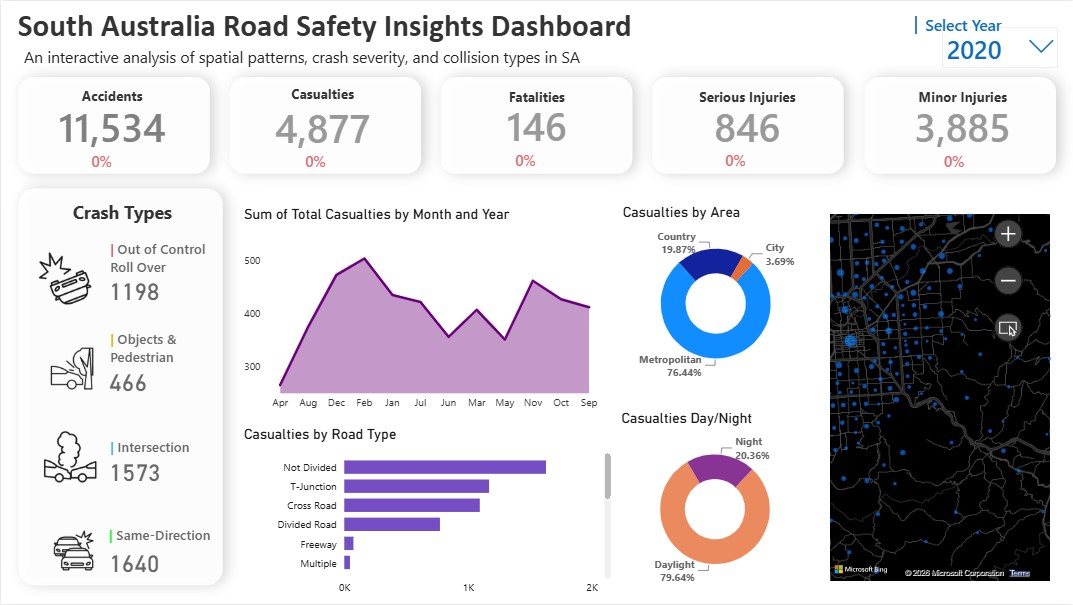

This screenshot's page, from the dashboard's own definition file:
{"tool":"powerbi","page":{"name":"Page 1","canvas":[1280,720],"ordinal":0},"visuals":[{"type":"group","id":"g1","title":"Group 2","box":[286.1,100.1,195,119.4],"z":0,"group":"g3"},{"type":"group","id":"g2","title":"Group 3","box":[286.1,100.1,195,119.4],"z":0,"group":"g1"},{"type":"cardVisual","title":"Casualties","fields":{"Data":["bb05bb0d-f9a4-4638-8992-81d5fb9.CY Casualties"]},"box":[286.1,100.1,195,87.5],"z":0,"group":"g2"},{"type":"cardVisual","title":"Accidents","fields":{"Data":["bb05bb0d-f9a4-4638-8992-81d5fb9.Total CY Accidents"]},"box":[35.2,101.9,194,84],"z":0,"group":"g4"},{"type":"cardVisual","title":" Minor Injuries","fields":{"Data":["bb05bb0d-f9a4-4638-8992-81d5fb9.CY Casualties"]},"box":[1050,102.5,195.3,82.7],"z":0,"group":"g7"},{"type":"cardVisual","title":" Serious Injuries","fields":{"Data":["bb05bb0d-f9a4-4638-8992-81d5fb9.CY Casualties"]},"box":[792,102.9,197.3,82],"z":0,"group":"g6"},{"type":"cardVisual","title":"Fatalities","fields":{"Data":["bb05bb0d-f9a4-4638-8992-81d5fb9.CY Casualties"]},"box":[541.4,103.1,196.2,81.5],"z":0,"group":"g5"},{"type":"shape","title":"LEFT Bottom","box":[0,202.9,285.7,515.7],"z":0},{"type":"cardVisual","fields":{"Data":["bb05bb0d-f9a4-4638-8992-81d5fb9.YoY Casualties"]},"box":[835.4,156,131.5,65.1],"z":1000,"group":"g6"},{"type":"cardVisual","fields":{"Data":["bb05bb0d-f9a4-4638-8992-81d5fb9.YoY Casualties"]},"box":[584.8,156.2,130.3,63.9],"z":1000,"group":"g5"},{"type":"cardVisual","fields":{"Data":["bb05bb0d-f9a4-4638-8992-81d5fb9.YoY Casualties"]},"box":[333.2,159.2,131.5,60.3],"z":1000,"group":"g2"},{"type":"cardVisual","fields":{"Data":["bb05bb0d-f9a4-4638-8992-81d5fb9.YoY Casualties"]},"box":[1095.8,159.2,131.5,60.3],"z":1000,"group":"g7"},{"type":"cardVisual","fields":{"Data":["bb05bb0d-f9a4-4638-8992-81d5fb9.YoY Accidents"]},"box":[78.6,159.8,131.5,61.5],"z":1000,"group":"g4"},{"type":"cardVisual","title":"vasdv","fields":{"Data":["bb05bb0d-f9a4-4638-8992-81d5fb9.CY Casualties"],"Rows":["bb05bb0d-f9a4-4638-8992-81d5fb9.Crash Type (groups)"]},"box":[97.1,267.1,378.6,434.3],"z":1000},{"type":"shape","title":"Card 1","box":[0,70,270.2,156.8],"z":2000},{"type":"shape","title":"Card 3","box":[504.9,70,270.2,156.8],"z":3000},{"type":"image","box":[24.3,273.4,105.7,117.1],"z":3000,"group":"g8"},{"type":"shape","title":"Card 2","box":[252.4,70,270.2,156.8],"z":4000},{"type":"shape","title":"Card 4","box":[757.3,70,270.2,156.8],"z":5000},{"type":"image","box":[42.9,383.4,91.4,110],"z":5000,"group":"g8"},{"type":"shape","title":"Card 5","box":[1009.8,70,270.2,156.8],"z":6000},{"type":"image","box":[31.4,469.1,98.6,151.4],"z":7000,"group":"g8"},{"type":"slicer","title":"Select Year","fields":{"Values":["Calendar.Year"]},"box":[1117.1,24.3,152.9,67.1],"z":8000},{"type":"image","box":[50,596.3,77.1,122.9],"z":9000,"group":"g8"},{"type":"group","id":"g3","title":"Group 1","box":[286.1,100.1,195,119.4],"z":10000},{"type":"group","id":"g4","title":"Group 1","box":[35.2,101.9,194,119.4],"z":11000},{"type":"group","id":"g5","title":"Group 3","box":[541.4,103.1,196.2,117],"z":12000},{"type":"group","id":"g6","title":"Group 3","box":[792,102.9,197.3,118.2],"z":13000},{"type":"group","id":"g7","title":"Group 3","box":[1050,102.5,195.3,117],"z":14000},{"type":"textbox","box":[14.3,1.4,748.6,67.1],"z":15000},{"type":"textbox","box":[80,232.9,165.7,68.6],"z":16000},{"type":"areaChart","fields":{"Category":["Calendar.Month"],"Y":["Sum(bb05bb0d-f9a4-4638-8992-81d5fb9.Total Casualties)"],"Series":["Calendar.Date.Variation.Date Hierarchy.Year"]},"box":[285.7,244.7,435.7,252.9],"z":17000},{"type":"donutChart","title":"Casualties by Area","fields":{"Y":["bb05bb0d-f9a4-4638-8992-81d5fb9.CY Casualties"],"Category":["bb05bb0d-f9a4-4638-8992-81d5fb9.Stats Area.2"]},"box":[737.5,241.9,232.5,220],"z":18000},{"type":"donutChart","title":"Casualties Day/Night","fields":{"Y":["bb05bb0d-f9a4-4638-8992-81d5fb9.CY Casualties"],"Category":["bb05bb0d-f9a4-4638-8992-81d5fb9.DayNight"]},"box":[736.2,488.1,233.8,218.8],"z":19000},{"type":"barChart","title":"Casualties by Road Type","fields":{"Y":["bb05bb0d-f9a4-4638-8992-81d5fb9.CY Casualties"],"Category":["bb05bb0d-f9a4-4638-8992-81d5fb9.Position Type"]},"box":[285.7,507.6,448.6,211.4],"z":20000},{"type":"map","title":"Casualties by Location","fields":{"Size":["bb05bb0d-f9a4-4638-8992-81d5fb9.CY Casualties"],"Category":["bb05bb0d-f9a4-4638-8992-81d5fb9.Full_Address"]},"box":[985.7,230.4,272.9,468.6],"z":21000},{"type":"textbox","box":[124.7,278.6,240,55.7],"z":22000},{"type":"textbox","box":[124.7,387.1,238.6,57.1],"z":23000},{"type":"textbox","box":[124.7,515.7,125.7,55.7],"z":24000},{"type":"textbox","box":[124.3,621.4,145.7,55.7],"z":25000},{"type":"group","id":"g8","title":"Group 4","box":[24.3,273.4,110,445.7],"z":26000},{"type":"textbox","box":[1098.6,10,115.7,44.3],"z":27000},{"type":"shape","box":[974.2,18.3,235.8,21.7],"z":28000},{"type":"textbox","box":[22.9,48.6,700,40],"z":29000}]}

Visuals, with their boxes in screenshot pixels (x1, y1, x2, y2), scaled from the page's 1280x720 canvas onto the 1073x605 screenshot:
"Group 2" group: Rect(240, 84, 403, 184)
"Group 3" group: Rect(240, 84, 403, 184)
"Casualties" cardVisual: Rect(240, 84, 403, 158)
"Accidents" cardVisual: Rect(30, 86, 192, 156)
" Minor Injuries" cardVisual: Rect(880, 86, 1044, 156)
" Serious Injuries" cardVisual: Rect(664, 86, 829, 155)
"Fatalities" cardVisual: Rect(454, 87, 618, 155)
"LEFT Bottom" shape: Rect(0, 170, 239, 604)
cardVisual - bb05bb0d-f9a4-4638-8992-81d5fb9.YoY Casualties: Rect(700, 131, 811, 186)
cardVisual - bb05bb0d-f9a4-4638-8992-81d5fb9.YoY Casualties: Rect(490, 131, 599, 185)
cardVisual - bb05bb0d-f9a4-4638-8992-81d5fb9.YoY Casualties: Rect(279, 134, 390, 184)
cardVisual - bb05bb0d-f9a4-4638-8992-81d5fb9.YoY Casualties: Rect(919, 134, 1029, 184)
cardVisual - bb05bb0d-f9a4-4638-8992-81d5fb9.YoY Accidents: Rect(66, 134, 176, 186)
"vasdv" cardVisual: Rect(81, 224, 399, 589)
"Card 1" shape: Rect(0, 59, 227, 191)
"Card 3" shape: Rect(423, 59, 650, 191)
image: Rect(20, 230, 109, 328)
"Card 2" shape: Rect(212, 59, 438, 191)
"Card 4" shape: Rect(635, 59, 861, 191)
image: Rect(36, 322, 113, 415)
"Card 5" shape: Rect(846, 59, 1072, 191)
image: Rect(26, 394, 109, 521)
"Select Year" slicer: Rect(936, 20, 1065, 77)
image: Rect(42, 501, 107, 604)
"Group 1" group: Rect(240, 84, 403, 184)
"Group 1" group: Rect(30, 86, 192, 186)
"Group 3" group: Rect(454, 87, 618, 185)
"Group 3" group: Rect(664, 86, 829, 186)
"Group 3" group: Rect(880, 86, 1044, 184)
textbox: Rect(12, 1, 640, 58)
textbox: Rect(67, 196, 206, 253)
areaChart - Calendar.Month x Sum(bb05bb0d-f9a4-4638-8992-81d5fb9.Total Casualties): Rect(239, 206, 605, 418)
"Casualties by Area" donutChart: Rect(618, 203, 813, 388)
"Casualties Day/Night" donutChart: Rect(617, 410, 813, 594)
"Casualties by Road Type" barChart: Rect(239, 427, 616, 604)
"Casualties by Location" map: Rect(826, 194, 1055, 587)
textbox: Rect(105, 234, 306, 281)
textbox: Rect(105, 325, 305, 373)
textbox: Rect(105, 433, 210, 480)
textbox: Rect(104, 522, 226, 569)
"Group 4" group: Rect(20, 230, 113, 604)
textbox: Rect(921, 8, 1018, 46)
shape: Rect(817, 15, 1014, 34)
textbox: Rect(19, 41, 606, 74)
